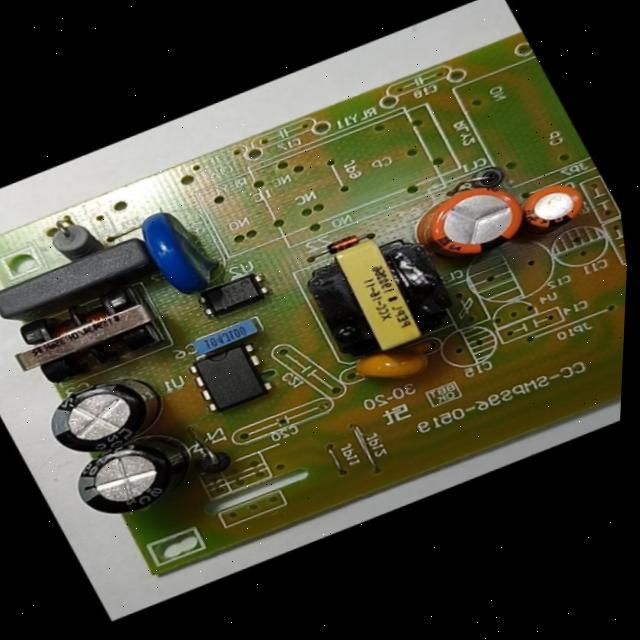Cap1: (421, 176, 536, 267)
Cap2: (519, 177, 589, 231)
Cap3: (28, 360, 172, 465)
Cap4: (60, 422, 210, 529)
MOSFET: (181, 333, 284, 423)
Mov: (126, 194, 235, 306)
Resistor: (42, 208, 106, 264)
Transformer: (295, 218, 467, 372), (0, 277, 171, 399)
